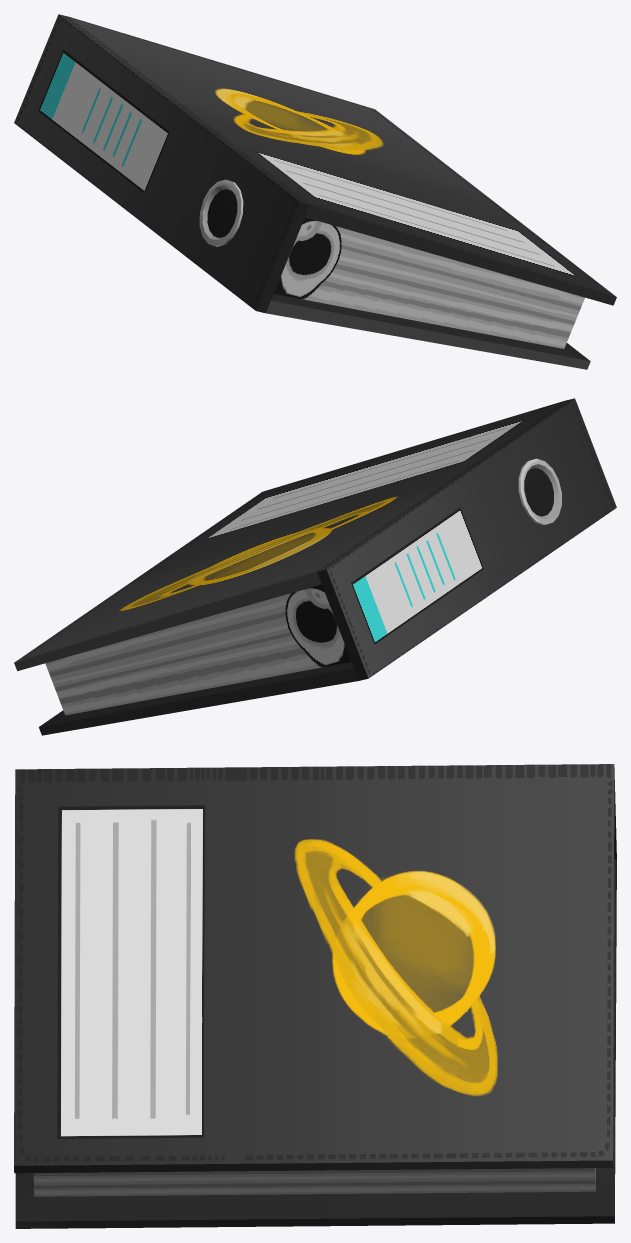
The model's file is Binder_Planet.fbx.
3 renders of one model, top to bottom at view 1: azimuth 30°, elevation 25°; view 2: azimuth 150°, elevation 25°; view 3: azimuth 270°, elevation 25°, orthographic. The views are drawn at different scales.
Parts seen in each view (by area): view 1: Binder_low; view 2: Binder_low; view 3: Binder_low.
Part boxes in pixels (left/top/right/bottom): Binder_low: left=14, top=14, right=616, bottom=369; Binder_low: left=14, top=398, right=616, bottom=735; Binder_low: left=14, top=764, right=616, bottom=1228.
Size of the model in its own units: 1158 by 743 by 1366.
1 material, 1 textured.
